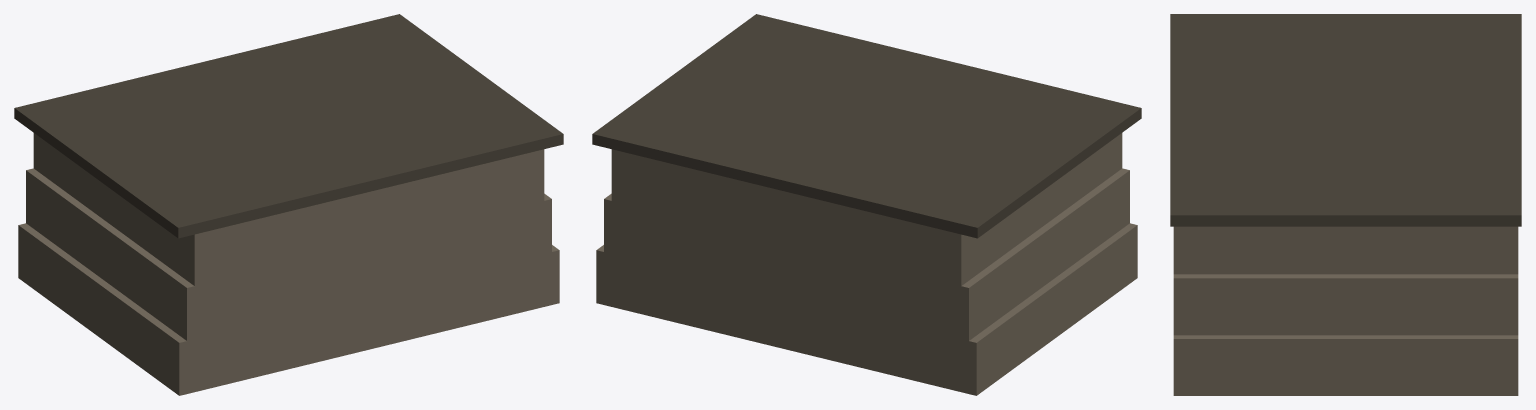
Rendered from clothes-common.glb.
3 views of the same model, side by side, from view 1: azimuth 30°, elevation 25°; view 2: azimuth 150°, elevation 25°; view 3: azimuth 270°, elevation 25° (orthographic). The views are drawn at different scales.
Parts seen in each view (by area): view 1: m; view 2: m; view 3: m.
Boxes of the visible parts, x1,y1,x2,y2 form: m: (14, 14, 563, 395); m: (592, 14, 1141, 395); m: (1170, 14, 1521, 395).
Bounding box in the file's own units: 0.15 × 0.0632 × 0.1105.
